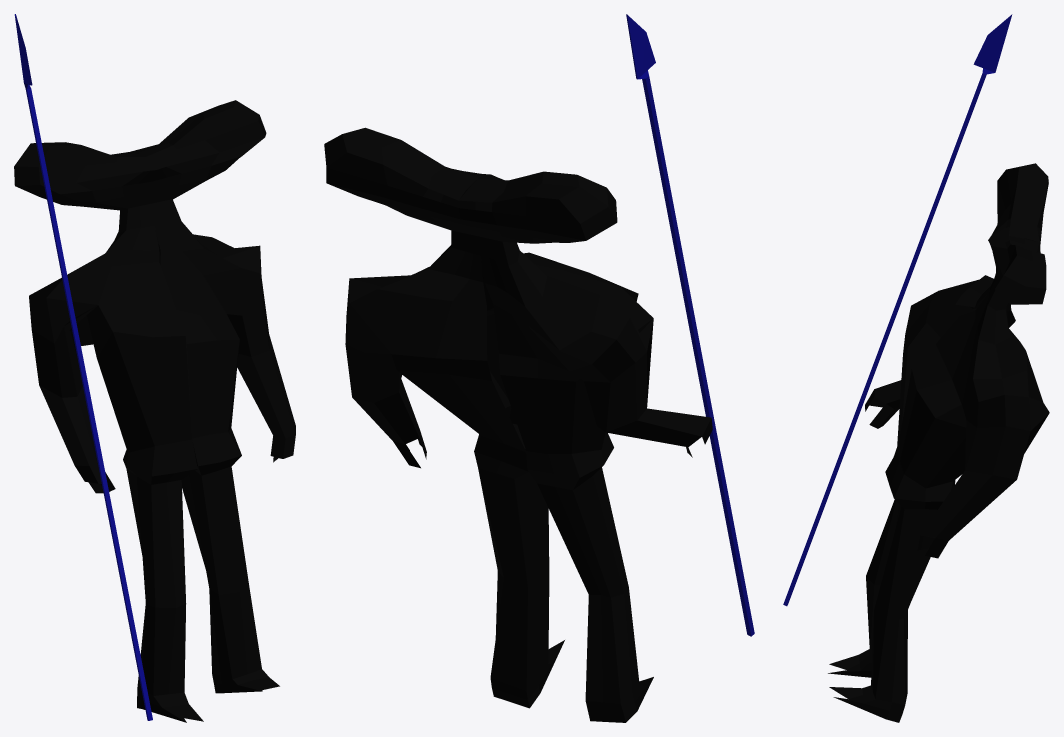
Rendered from Spearman1d.obj.
3 renders of one model, left to right at view 1: azimuth 30°, elevation 25°; view 2: azimuth 150°, elevation 25°; view 3: azimuth 270°, elevation 25°, orthographic. The views are drawn at different scales.
Parts seen in each view (by area): view 1: Cube; view 2: Cube; view 3: Cube.
Part boxes in pixels (<box>): Cube: <box>14,14,295,722</box>; Cube: <box>324,14,754,722</box>; Cube: <box>783,14,1049,722</box>.
Size of the model in its own units: 0.7686 by 1.91 by 0.7308.
